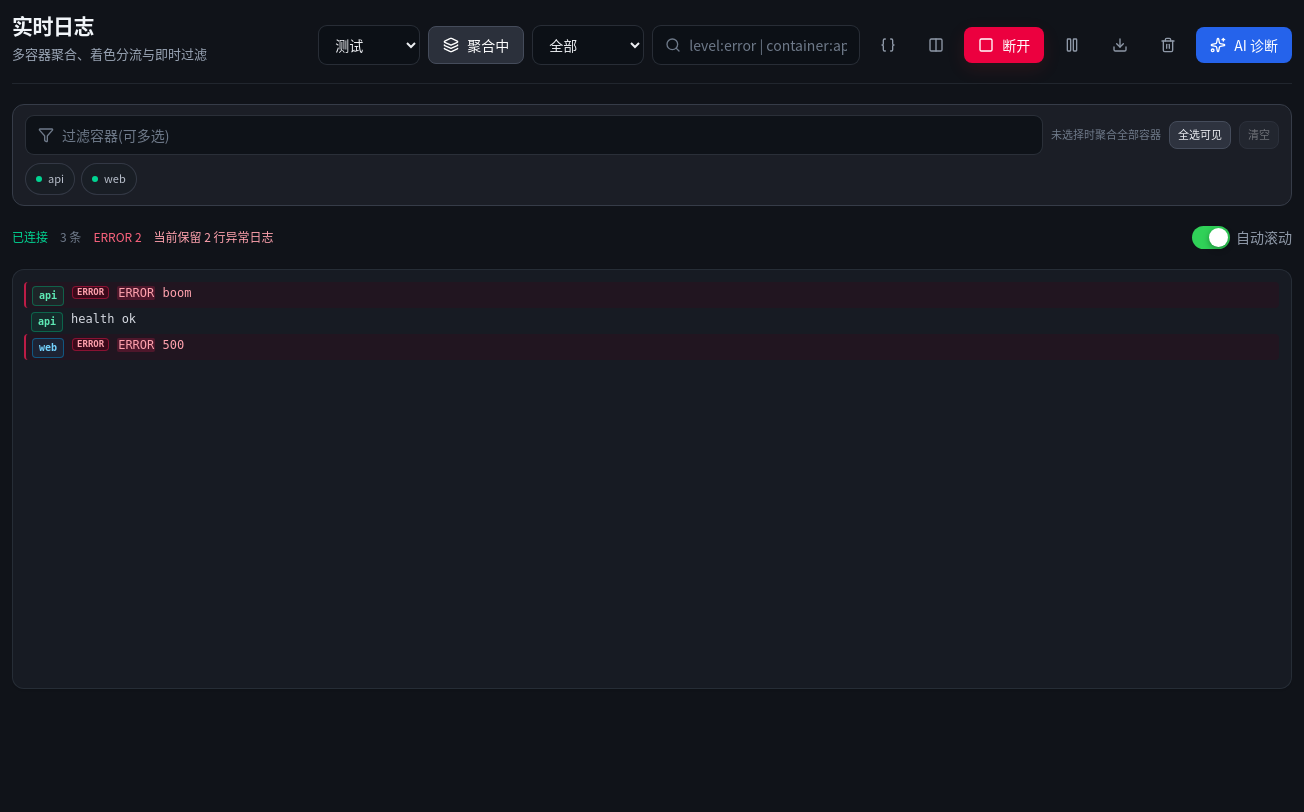
日志页面生命周期与数据完整性 › 字段查询按容器与级别过滤聚合日志
The image size is (1304, 812).
expect the number of elements with class "aggregate-line" is 3: met, box [24,282,1279,308]; [31,312,136,332]; [24,334,1279,360]
In the field with placeholder "level:error | container:api": [768, 45] box [689,27,847,63], type "container:api level:error"
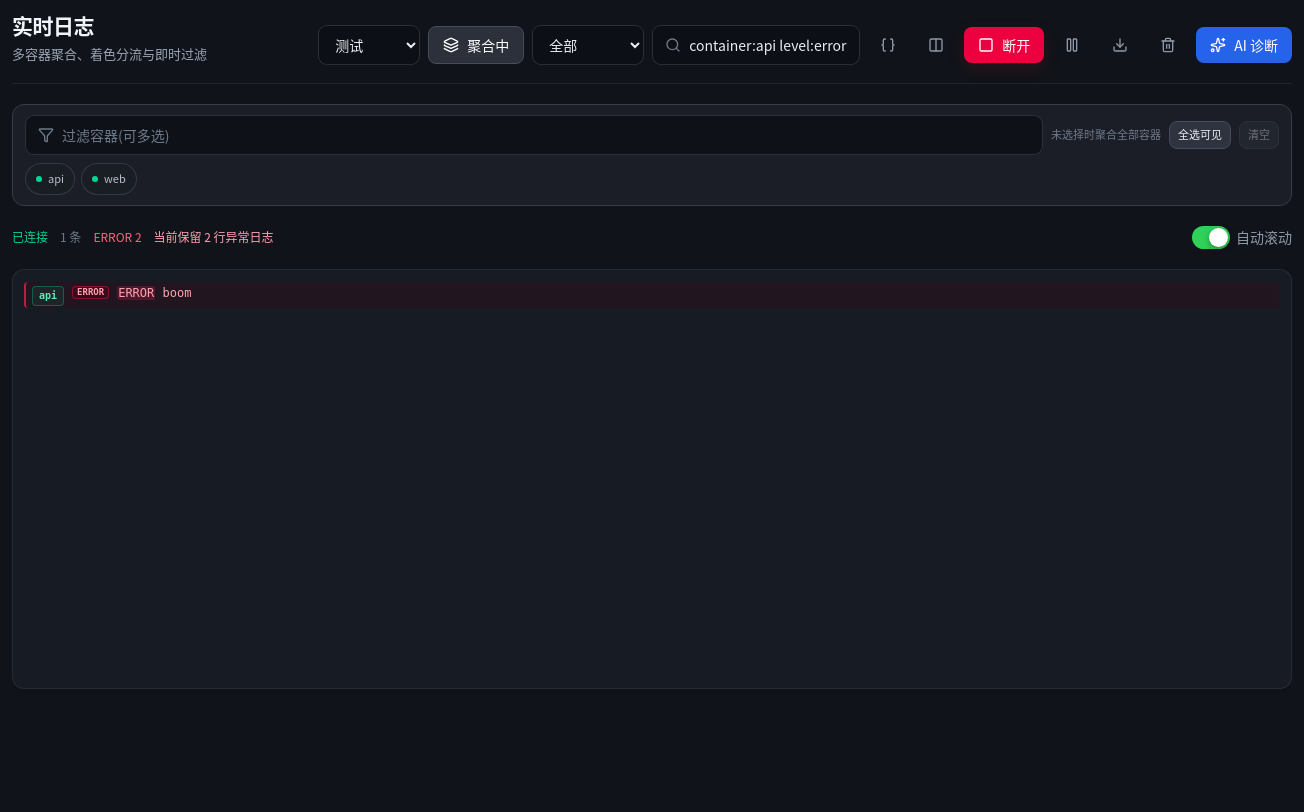
expect the element with class "aggregate-line" shows "ERROR boom": met, box [24,282,1279,308]
expect the number of elements with class "aggregate-line" is 1: met, box [24,282,1279,308]
expect the text "1 条" is shown: met, box [60,228,81,247]
